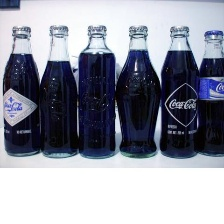bottle: (115, 22, 161, 158), (75, 19, 118, 161), (159, 22, 199, 163), (1, 22, 42, 157), (40, 21, 79, 161), (195, 27, 224, 159)
